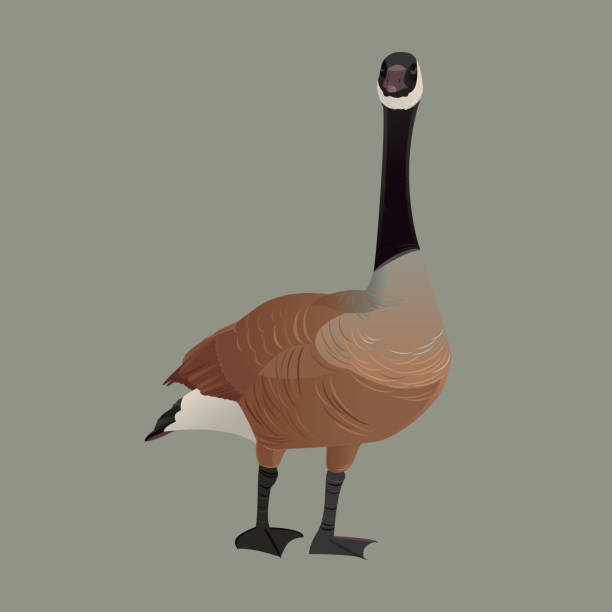goose: (134, 50, 459, 564)
